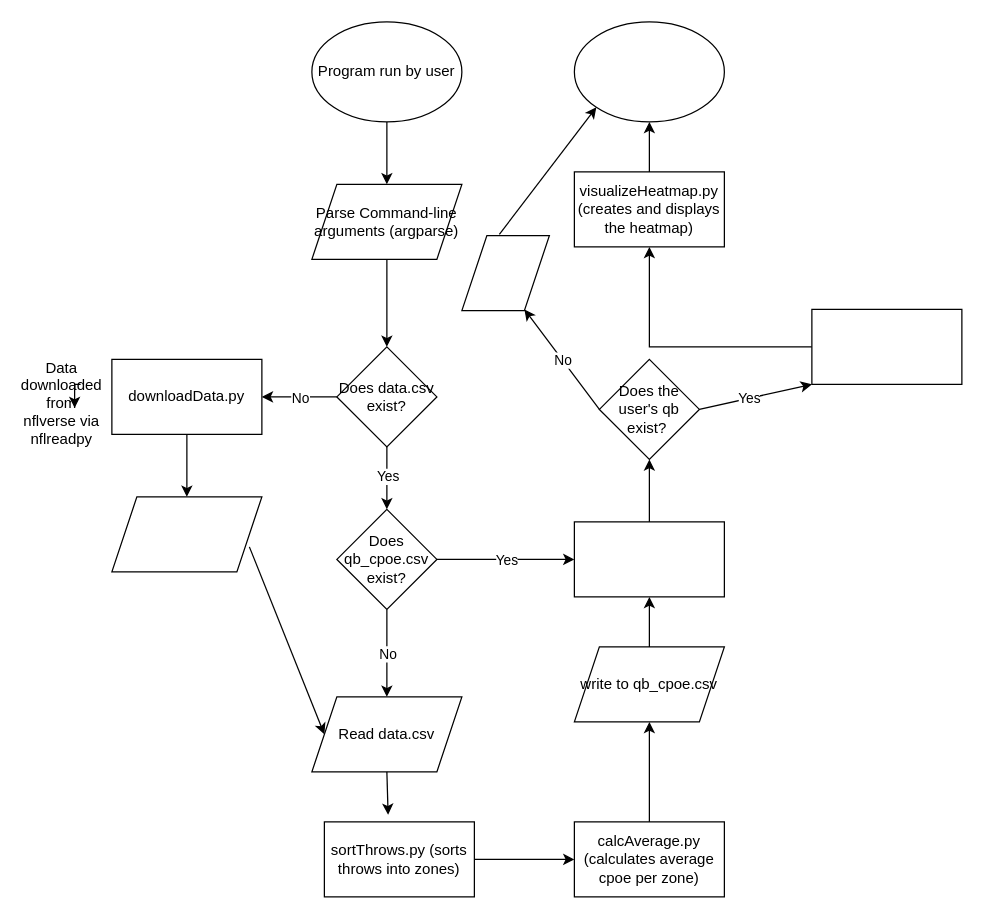
The diagram is 984 pixels wide and 919 high, and some of its shapes have lost their labels. The box of each missing label's shape, as (x1, y1, x2, y2) in pixels:
Display error message: (461, 234, 549, 311)
End: (573, 21, 724, 122)
filterData.py (filters to user selected qb): (811, 308, 962, 384)
read qb_cpoe.csv: (573, 521, 724, 597)
Write to data.csv: (111, 496, 262, 572)
